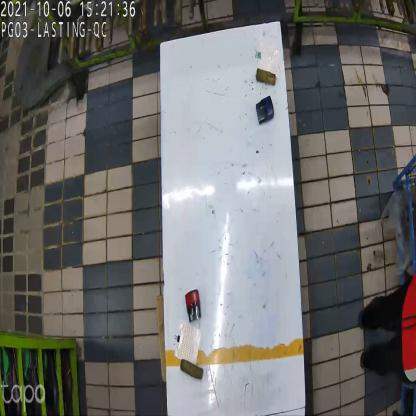stamp: (184, 291, 203, 326), (256, 96, 274, 128)
